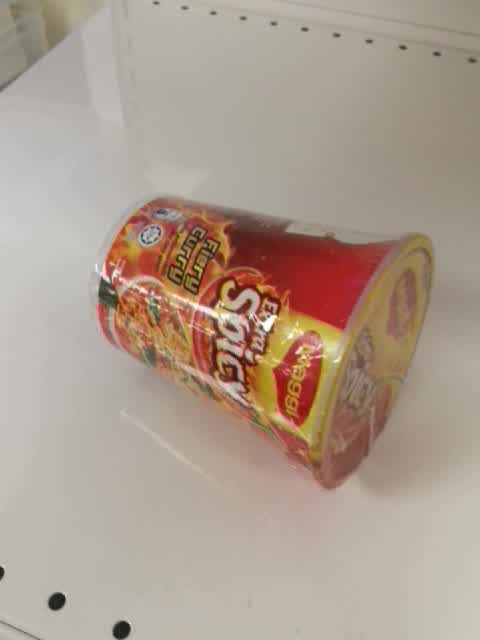maggi: (88, 192, 434, 493)
